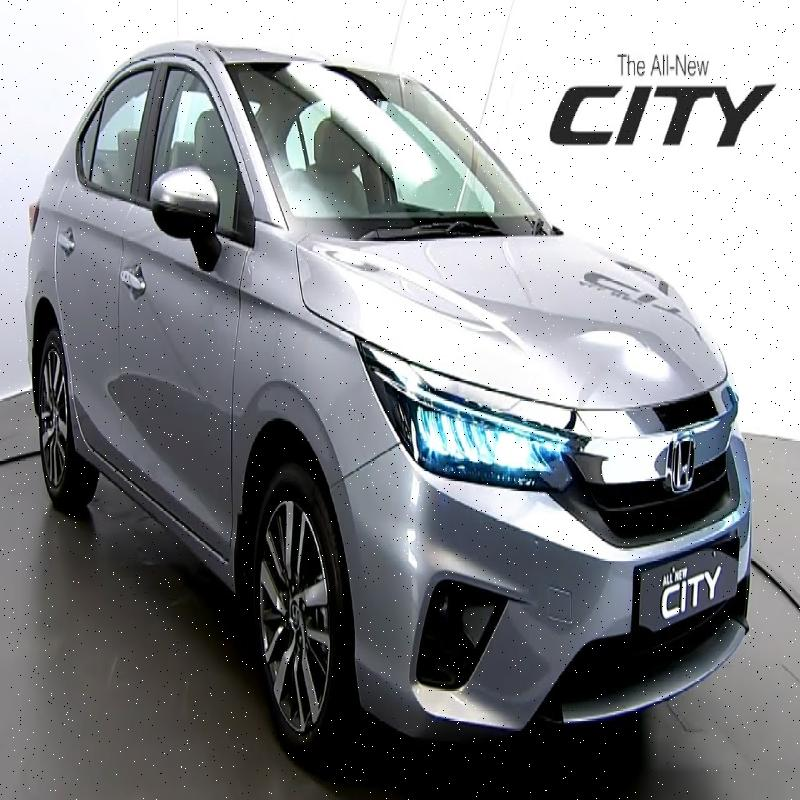car: (16, 45, 719, 674)
